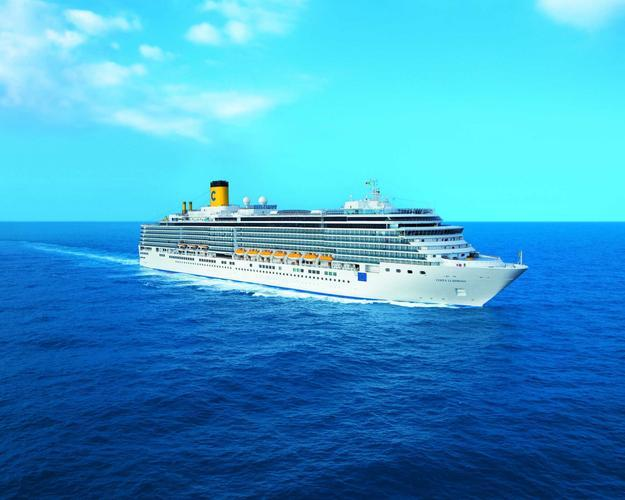Ship: (133, 180, 540, 316)
